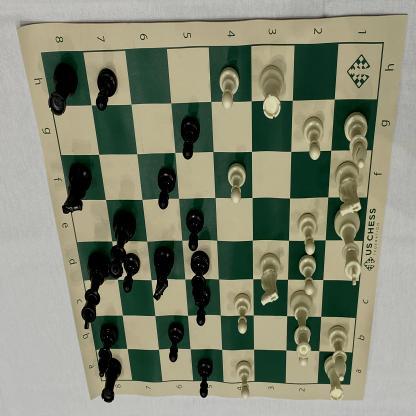black-bishop: (96, 322, 119, 378), (190, 250, 209, 306)
black-king: (79, 251, 111, 332)
black-knight: (62, 163, 91, 217), (151, 246, 176, 302)
black-pawn: (94, 66, 118, 112), (179, 113, 201, 163), (157, 166, 176, 212), (167, 320, 186, 365), (185, 208, 204, 252), (123, 252, 141, 294), (196, 358, 214, 400), (194, 285, 211, 328)
black-queen: (109, 209, 136, 279)
black-rook: (47, 63, 77, 118), (100, 360, 122, 404)
white-bishop: (343, 110, 368, 168), (327, 323, 350, 382)
white-king: (332, 207, 363, 288)
white-knight: (335, 161, 363, 216), (258, 250, 282, 306)
white-pawn: (218, 64, 241, 112), (302, 115, 324, 160), (227, 160, 247, 206), (297, 212, 318, 255), (233, 291, 252, 336), (298, 254, 316, 297), (234, 359, 252, 402), (294, 324, 310, 368)
white-queen: (288, 290, 316, 358)
white-rook: (257, 63, 285, 121), (323, 354, 344, 404)
